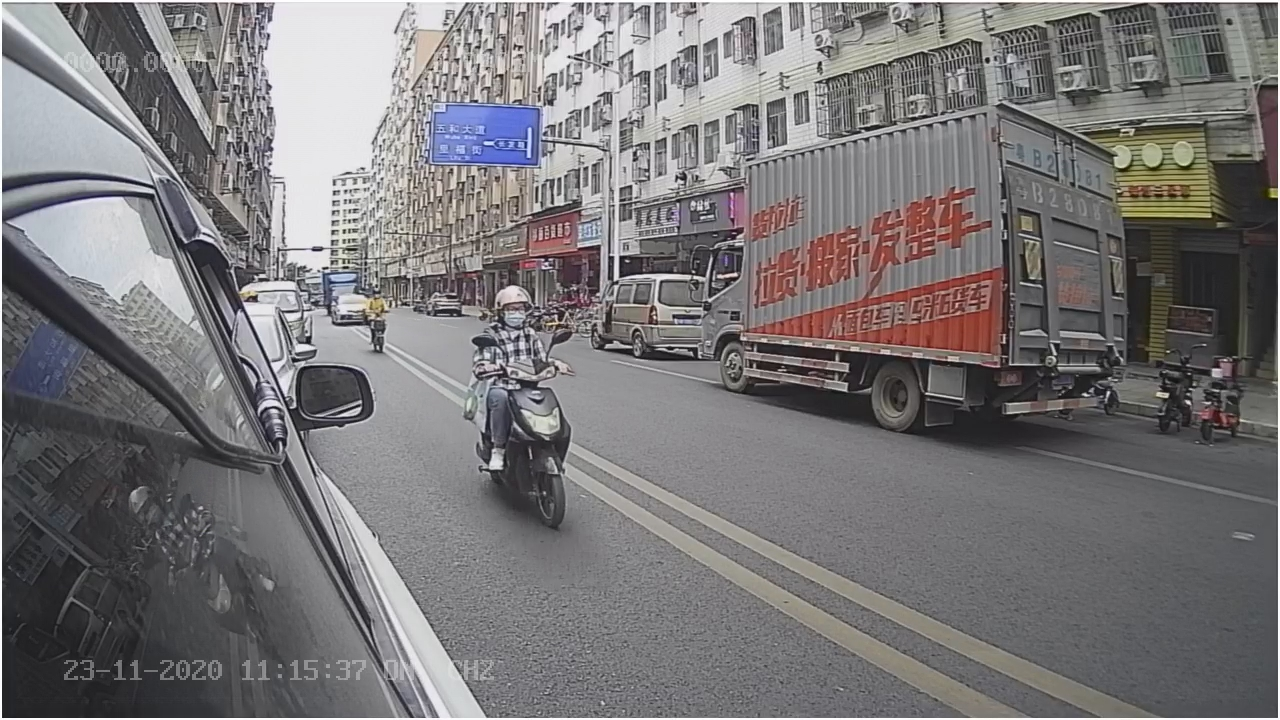person: (455, 281, 581, 368)
